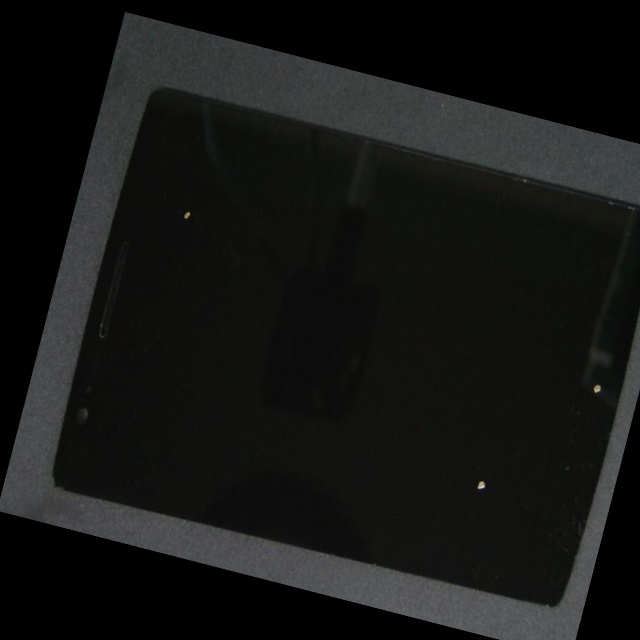stain: (224, 199, 640, 640), (311, 151, 640, 493), (127, 67, 268, 283)
